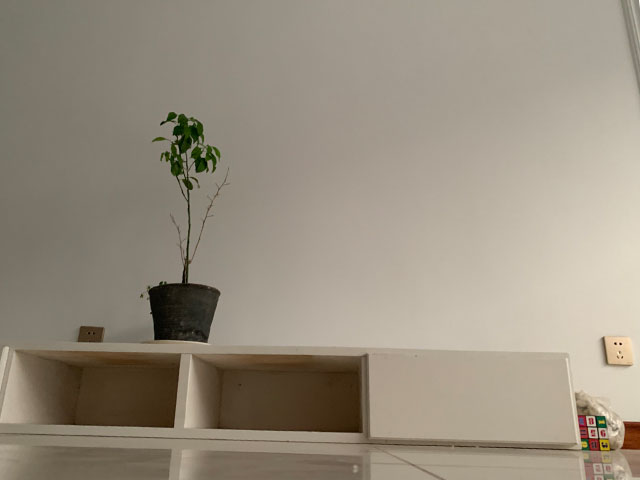cabinet: (1, 339, 585, 451)
